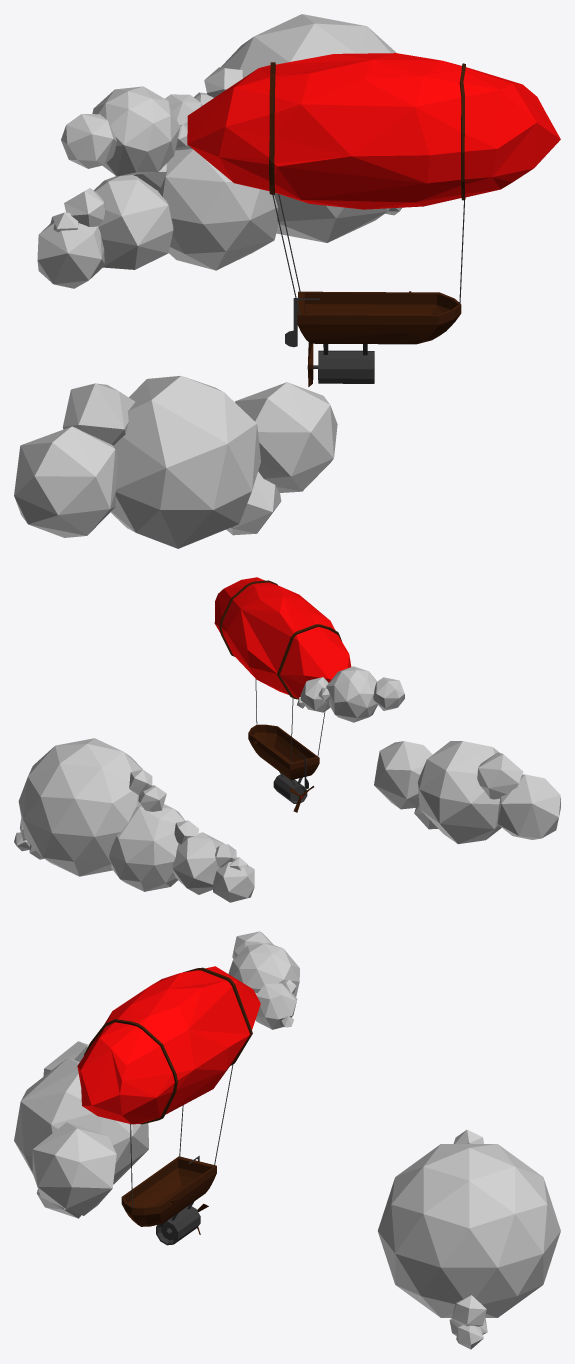
File: BaloonShip.fbx
3 renders of one model, top to bottom at view 1: azimuth 30°, elevation 25°; view 2: azimuth 150°, elevation 25°; view 3: azimuth 270°, elevation 25°, orthographic. The views are drawn at different scales.
Visible parts, largest first — view 1: LP_Airship_pCube5, polySurface40, polySurface14, polySurface53; view 2: polySurface14, LP_Airship_pCube5, polySurface40, polySurface53; view 3: polySurface14, LP_Airship_pCube5, polySurface40, polySurface53.
Part boxes in pixels (x1,y1,x2,y2): LP_Airship_pCube5: [187, 53, 560, 386]; polySurface40: [14, 376, 337, 548]; polySurface14: [37, 14, 401, 288]; polySurface53: [61, 86, 202, 176]; polySurface14: [14, 738, 254, 902]; LP_Airship_pCube5: [214, 577, 351, 812]; polySurface40: [374, 741, 560, 844]; polySurface53: [297, 666, 404, 722]; polySurface14: [378, 1129, 560, 1349]; LP_Airship_pCube5: [77, 966, 260, 1245]; polySurface40: [14, 1041, 148, 1218]; polySurface53: [228, 931, 299, 1029].
Size of the model in its own units: 1356 by 746 by 1230.
